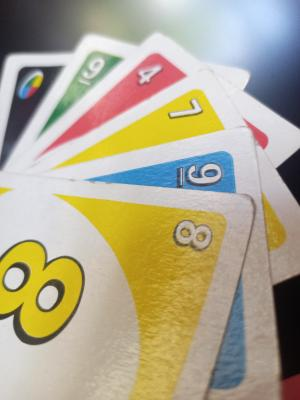blue: (108, 157, 247, 199)
num_4: (127, 61, 176, 91)
num_7: (157, 95, 214, 133)
num_8: (143, 208, 221, 322)
num_9: (163, 157, 232, 194), (73, 44, 110, 99)
wild: (11, 64, 53, 112)
yellow: (0, 227, 89, 363)
